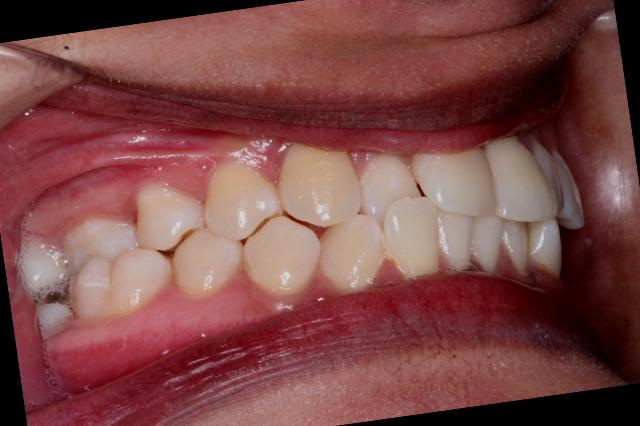canine class II 1/4: (225, 130, 392, 316)
molar class I: (52, 192, 180, 326)
